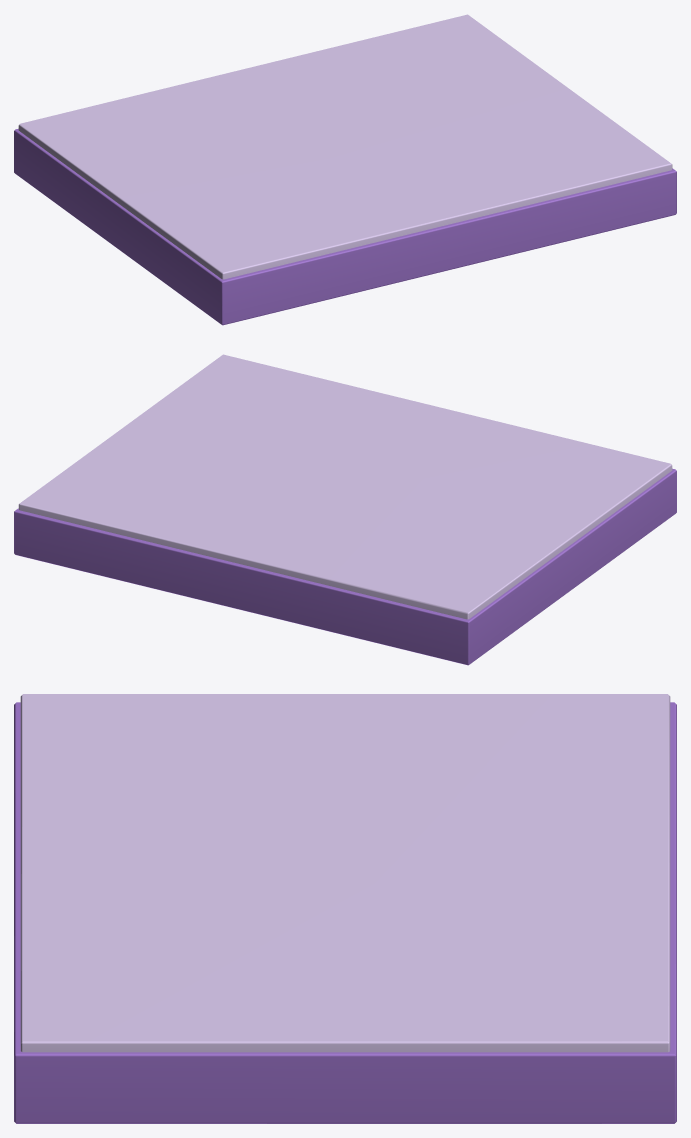
Rendered from Store_13_Base_1.glb.
3 views of the same model, one above another, from view 1: azimuth 30°, elevation 25°; view 2: azimuth 150°, elevation 25°; view 3: azimuth 270°, elevation 25° (orthographic). The views are drawn at different scales.
Visible parts, largest first — view 1: Store_13_Base_1; view 2: Store_13_Base_1; view 3: Store_13_Base_1.
Boxes of the visible parts, x1,y1,x2,y2 form: Store_13_Base_1: (14,14,676,325); Store_13_Base_1: (14,354,676,665); Store_13_Base_1: (14,694,676,1123).
Size of the model in its own units: 13.22 by 1.41 by 10.49.
1 material, 1 textured.
